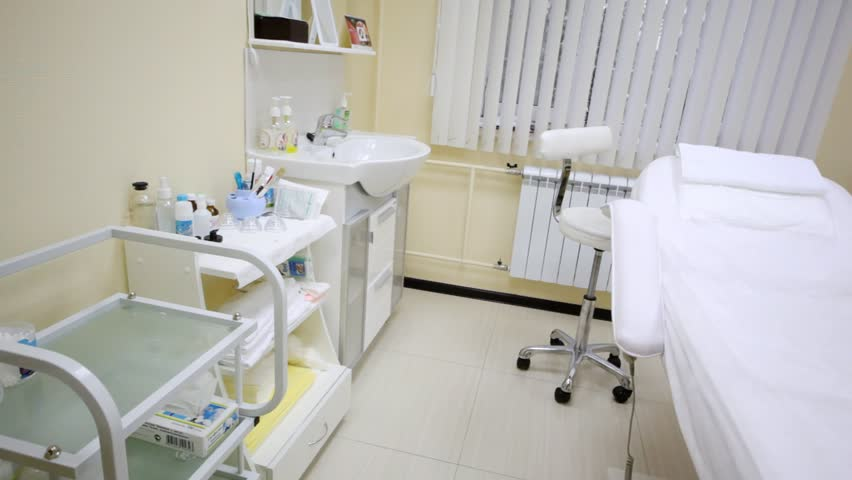hospital bed: (625, 128, 840, 469)
